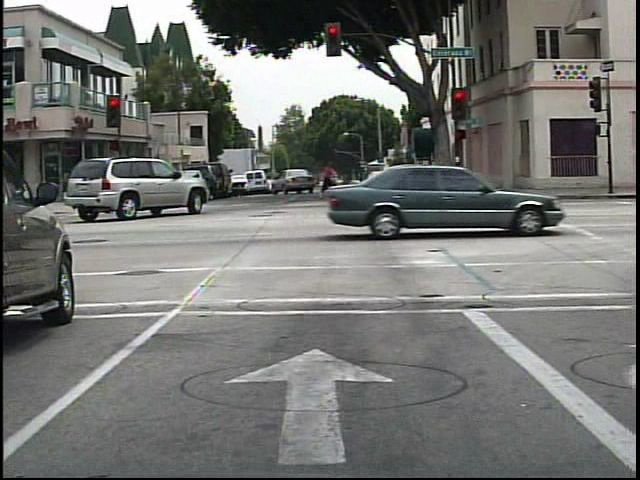person: (315, 157, 344, 203)
